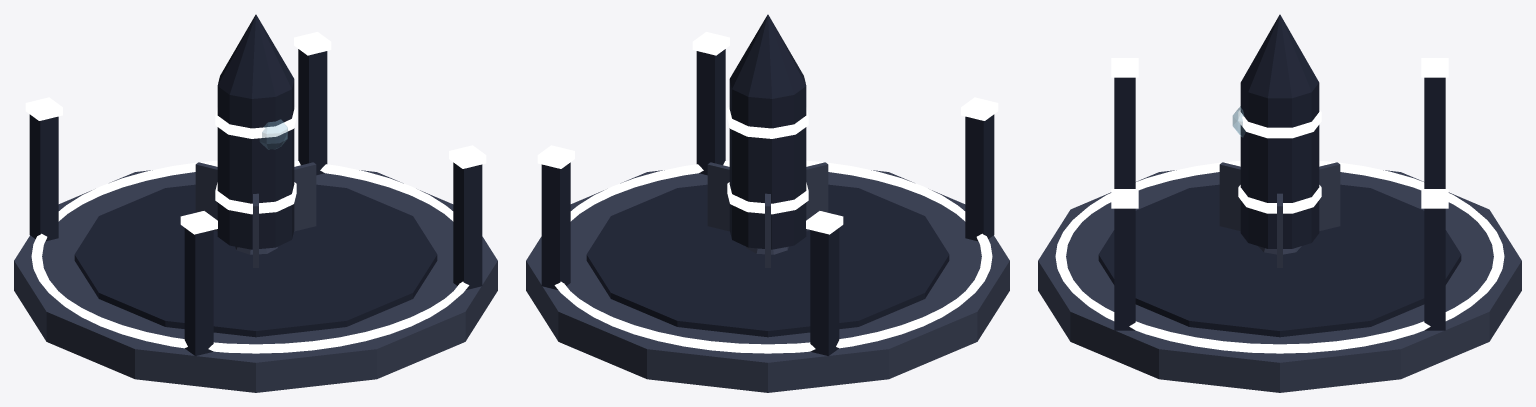
Rendered from contact.glb.
3 views of the same model, side by side, from view 1: azimuth 30°, elevation 25°; view 2: azimuth 150°, elevation 25°; view 3: azimuth 270°, elevation 25° (orthographic).
Parts seen in each view (by area): view 1: Contact_Pad, Contact_Rocket; view 2: Contact_Pad, Contact_Rocket; view 3: Contact_Pad, Contact_Rocket.
Part boxes in pixels (x1,y1,x2,y2): Contact_Pad: (14,32,497,392); Contact_Rocket: (195,14,316,267); Contact_Pad: (526,32,1009,392); Contact_Rocket: (707,14,828,267); Contact_Pad: (1038,58,1521,392); Contact_Rocket: (1219,14,1340,267).
Bounding box in the file's own units: 3.2 × 2.02 × 3.2.
